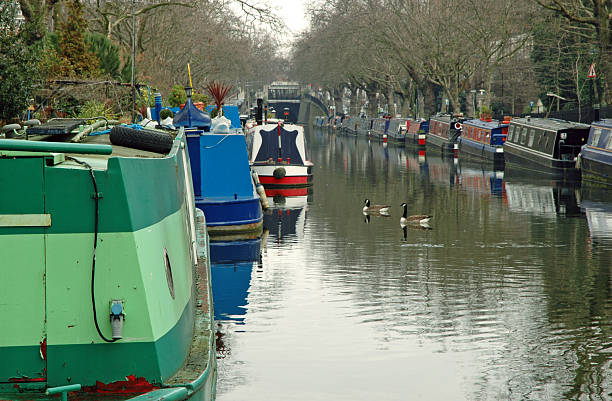goose: (397, 201, 435, 223), (361, 197, 393, 213)
